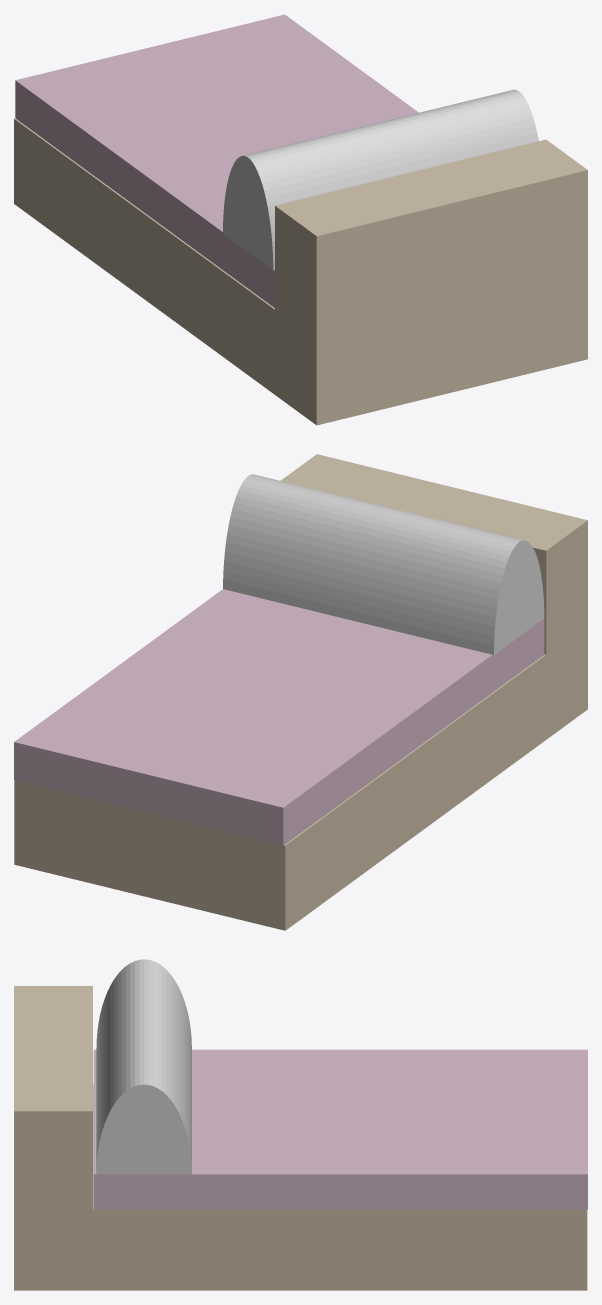
File: Neat Waasa-Borwo.glb
3 views of the same model, one above another, from view 1: azimuth 30°, elevation 25°; view 2: azimuth 150°, elevation 25°; view 3: azimuth 270°, elevation 25° (orthographic). The views are drawn at different scales.
Visible parts, largest first — view 1: Mesh_Mesh_head_geo.001_lambert2SG.001; view 2: Mesh_Mesh_head_geo.001_lambert2SG.001; view 3: Mesh_Mesh_head_geo.001_lambert2SG.001.
Boxes of the visible parts, bbox=[...] form: Mesh_Mesh_head_geo.001_lambert2SG.001: bbox=[14, 14, 587, 425]; Mesh_Mesh_head_geo.001_lambert2SG.001: bbox=[14, 454, 587, 930]; Mesh_Mesh_head_geo.001_lambert2SG.001: bbox=[14, 959, 587, 1290].
Bounding box in the file's own units: 0.03 × 0.023 × 0.0581.
